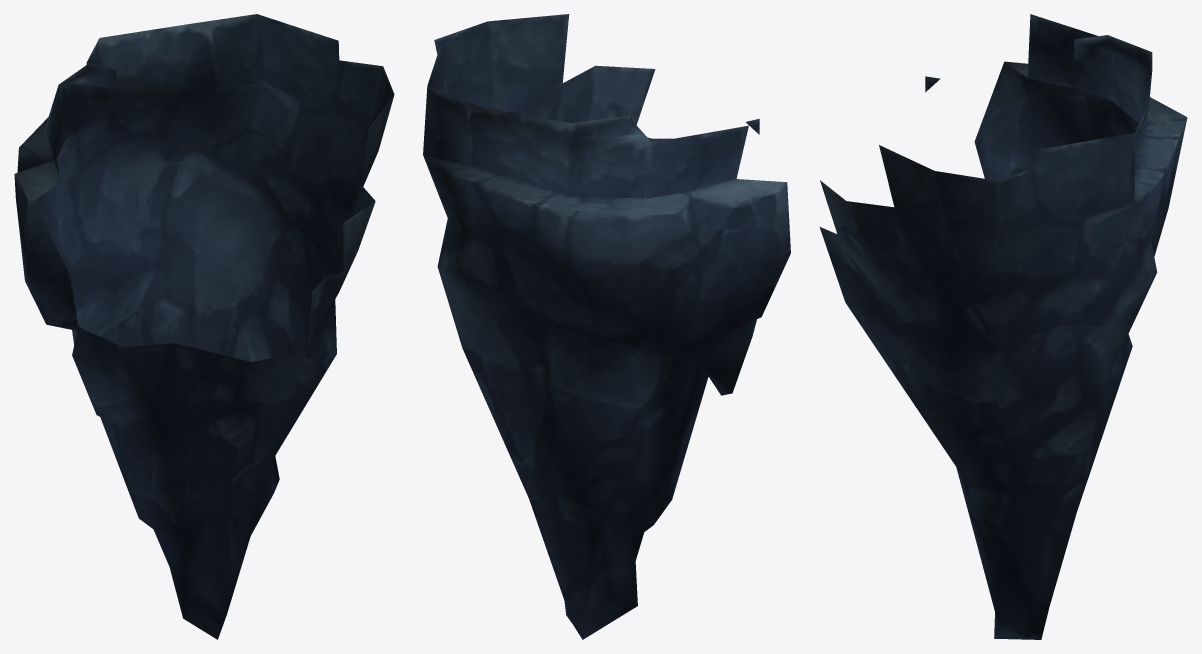
Rendered from Area_04_4.fbx.
The picture shows the model from 3 angles, left to right: view 1: azimuth 30°, elevation 25°; view 2: azimuth 150°, elevation 25°; view 3: azimuth 270°, elevation 25°; orthographic projection. The views are drawn at different scales.
Parts seen in each view (by area): view 1: Area_04_4; view 2: Area_04_4; view 3: Area_04_4.
Part boxes in pixels (box(x1,y1,x2,y2)): Area_04_4: box(14, 14, 394, 639); Area_04_4: box(423, 14, 790, 639); Area_04_4: box(819, 14, 1187, 639).
Size of the model in its own units: 1941 by 2932 by 1722.
